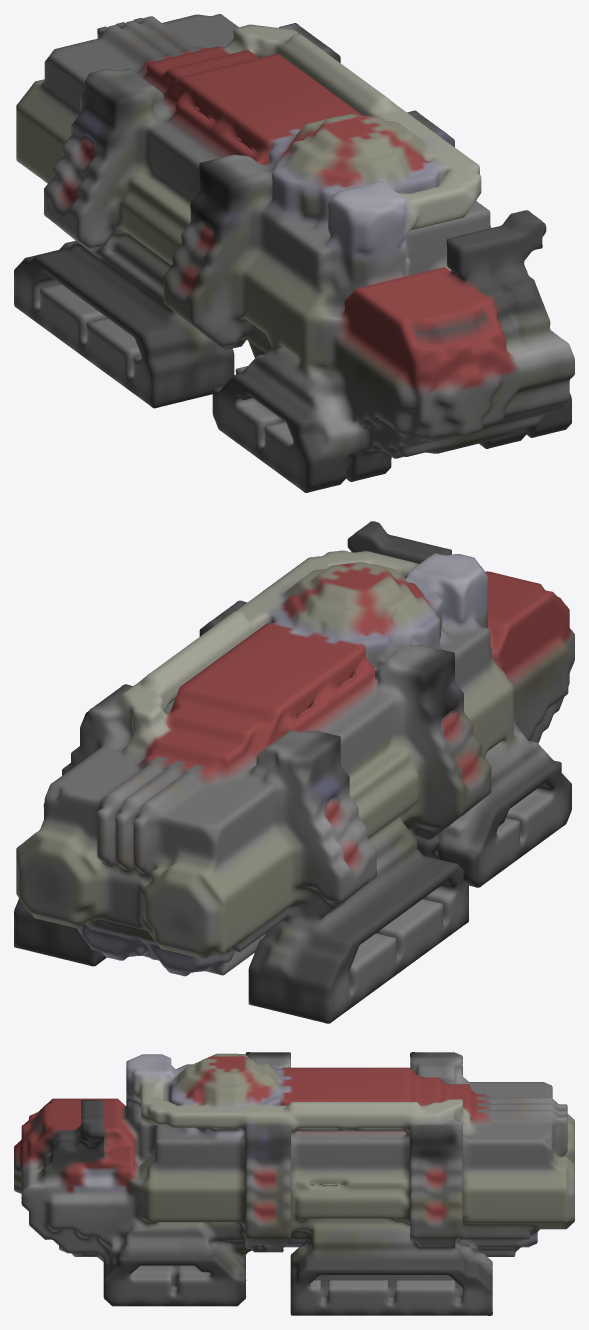
The model's file is soviet_mcv.glb.
3 renders of one model, top to bottom at view 1: azimuth 30°, elevation 25°; view 2: azimuth 150°, elevation 25°; view 3: azimuth 270°, elevation 25°, orthographic. The views are drawn at different scales.
Parts seen in each view (by area): view 1: soviet_mcv; view 2: soviet_mcv; view 3: soviet_mcv.
Boxes of the visible parts, bbox=[...] form: soviet_mcv: bbox=[14, 14, 574, 492]; soviet_mcv: bbox=[14, 521, 574, 1023]; soviet_mcv: bbox=[14, 1052, 574, 1315].
Size of the model in its own units: 2.92 by 2.41 by 6.23.
